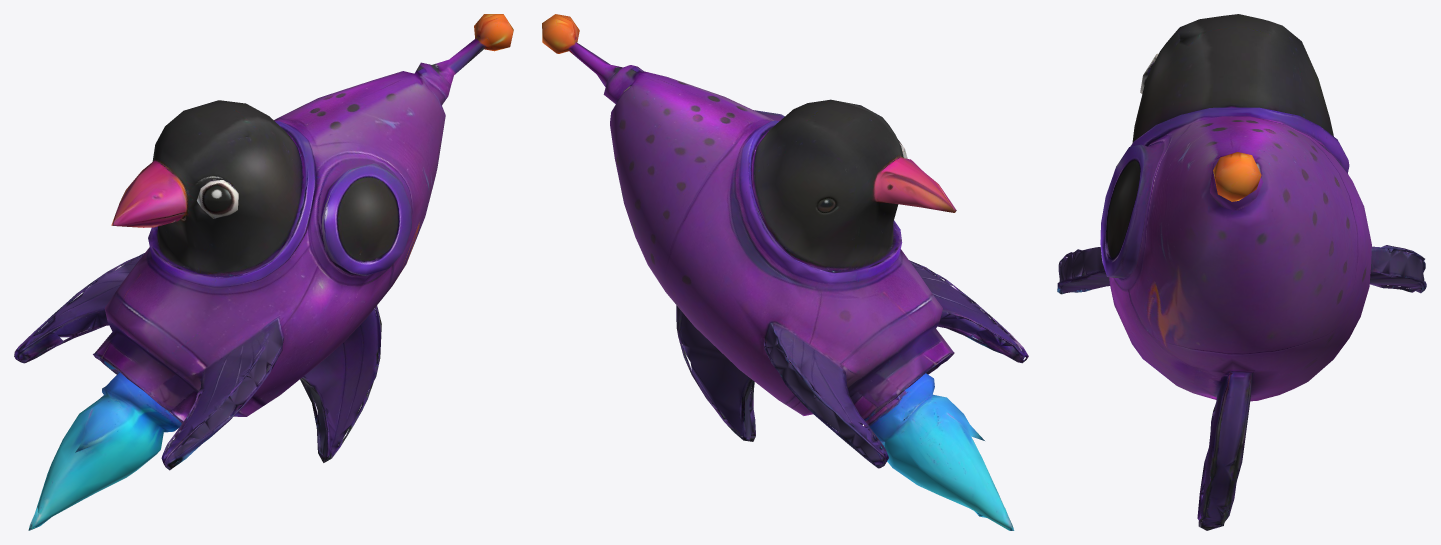
The model's file is SpacePenguinPilot.fbx.
3 views of the same model, side by side, from view 1: azimuth 30°, elevation 25°; view 2: azimuth 150°, elevation 25°; view 3: azimuth 270°, elevation 25° (orthographic). The views are drawn at different scales.
Parts seen in each view (by area): view 1: Mesh1; view 2: Mesh1; view 3: Mesh1.
Boxes of the visible parts, box(x1,y1,x2,y2) form: Mesh1: box(14, 14, 513, 530); Mesh1: box(542, 14, 1028, 530); Mesh1: box(1057, 14, 1426, 530).
Size of the model in its own units: 200 by 161 by 108.
1 material, 1 textured.
